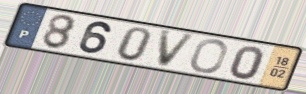0: (226, 44, 267, 81), (116, 26, 152, 62)
6: (77, 20, 114, 56)
8: (41, 13, 78, 51)
O: (189, 38, 230, 74)
V: (157, 29, 199, 68)
